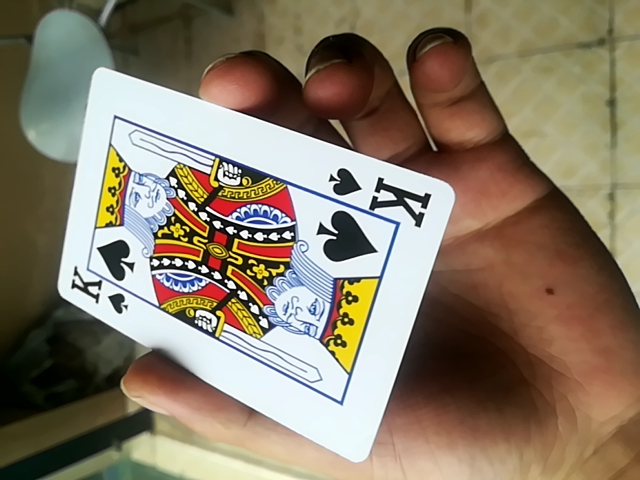ht k: (54, 70, 459, 473)
